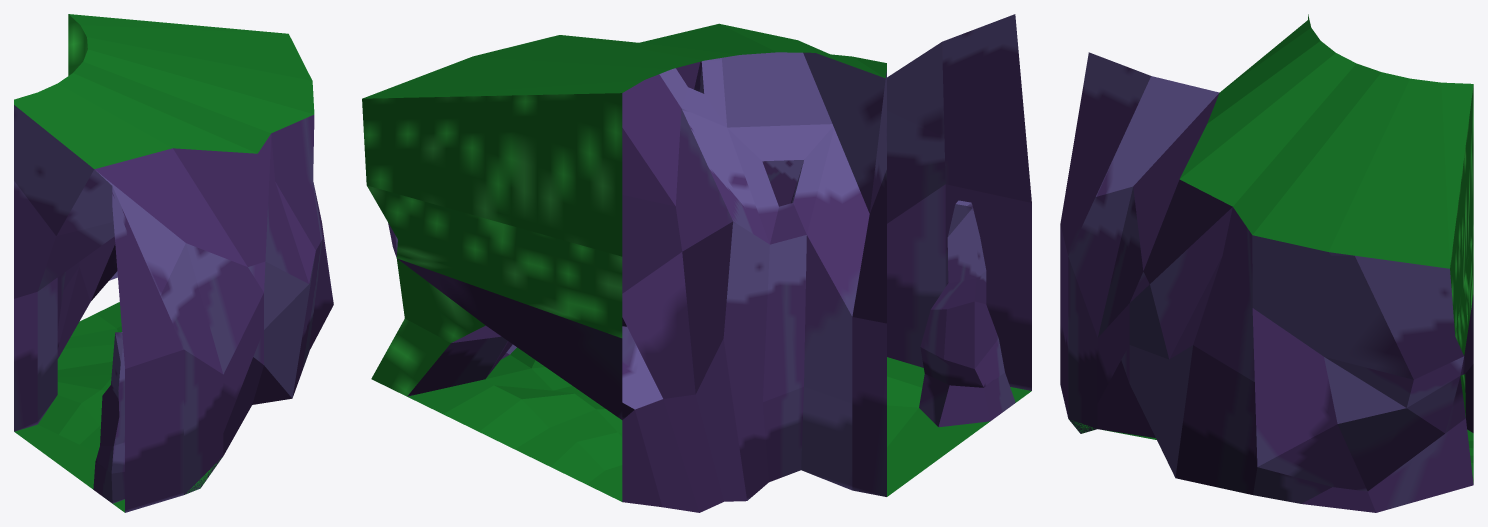
Rendered from Mapa Verde 2.fbx.
The picture shows the model from 3 angles, left to right: view 1: azimuth 30°, elevation 25°; view 2: azimuth 150°, elevation 25°; view 3: azimuth 270°, elevation 25°; orthographic projection. The views are drawn at different scales.
Visible parts, largest first — view 1: Mapa2; view 2: Mapa2; view 3: Mapa2.
Boxes of the visible parts, <box> form: Mapa2: <box>14,14,333,512</box>; Mapa2: <box>362,14,1031,512</box>; Mapa2: <box>1060,14,1473,512</box>.
Size of the model in its own units: 21098 by 20000 by 19972.
2 materials, 1 textured.
